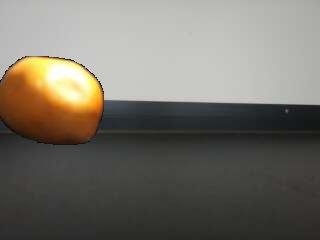Potato: (0, 56, 104, 145)
